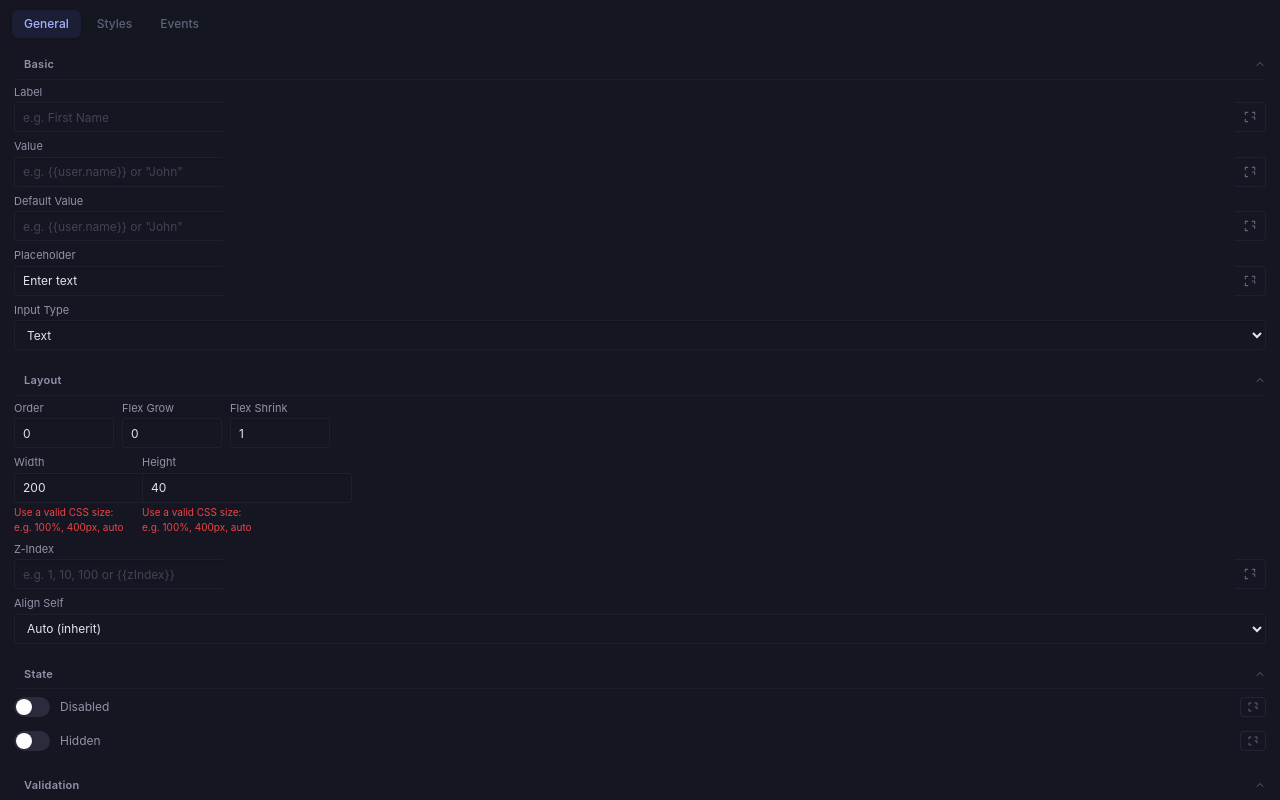
Test: PropertiesPanelCore - Property Tabs › should switch between tabs correctly
Expected: the text "Layout" is shown, [24,372,62,388]
Expected: the text "State" is shown, [24,666,53,682]
Click on Styles tab
Click the tab "Styles". click: (114, 24)
box: [85,10,144,38]
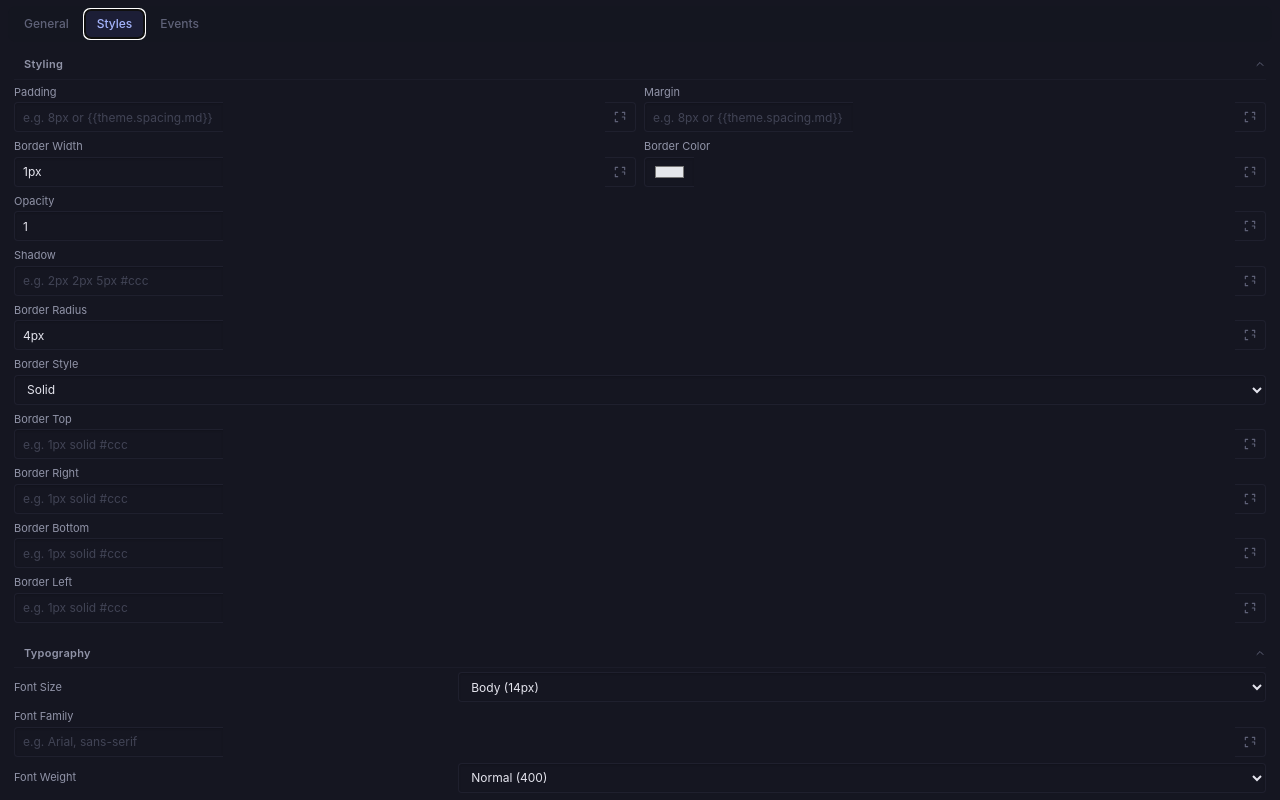
Expected: the text "Styling" is shown, [24,56,63,72]
Click back on General tab
Click the tab "General". click: (46, 24)
box: [12,10,81,38]
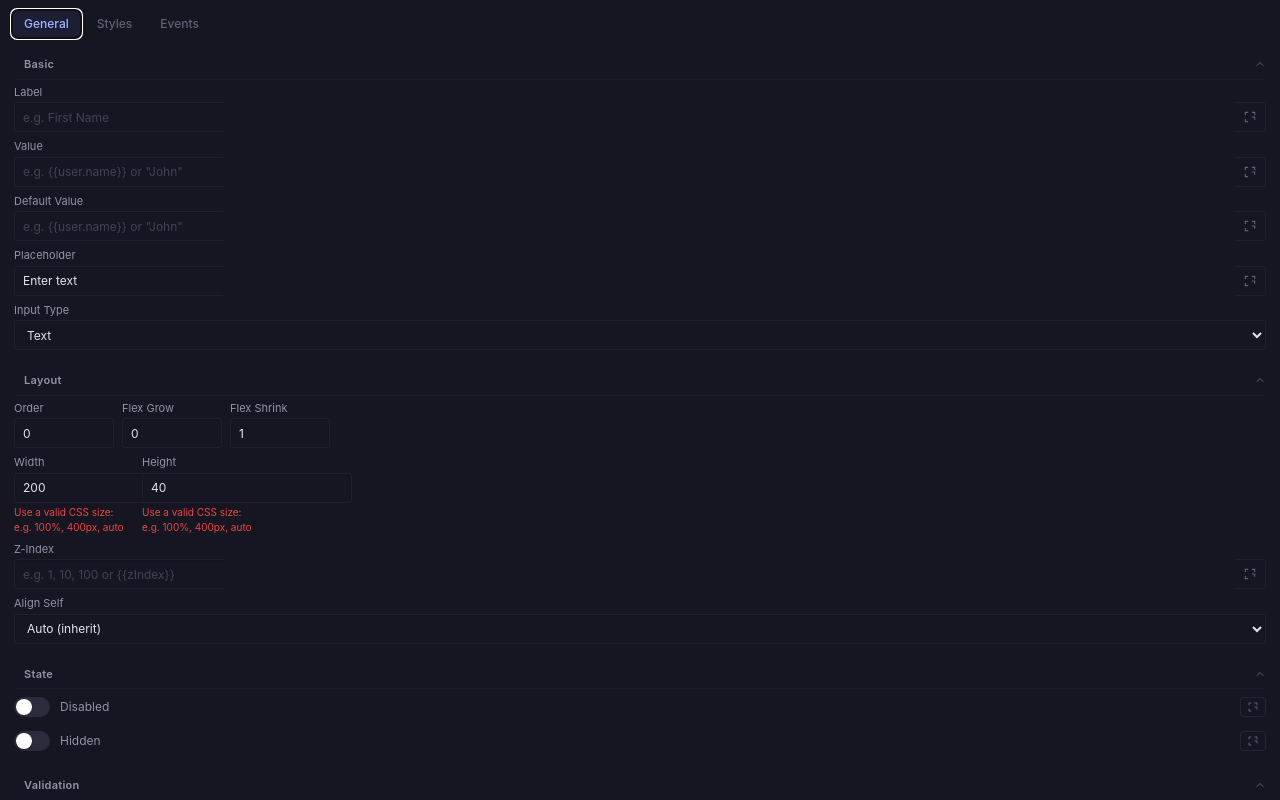
Expected: the text "Layout" is shown, [24,372,62,388]
